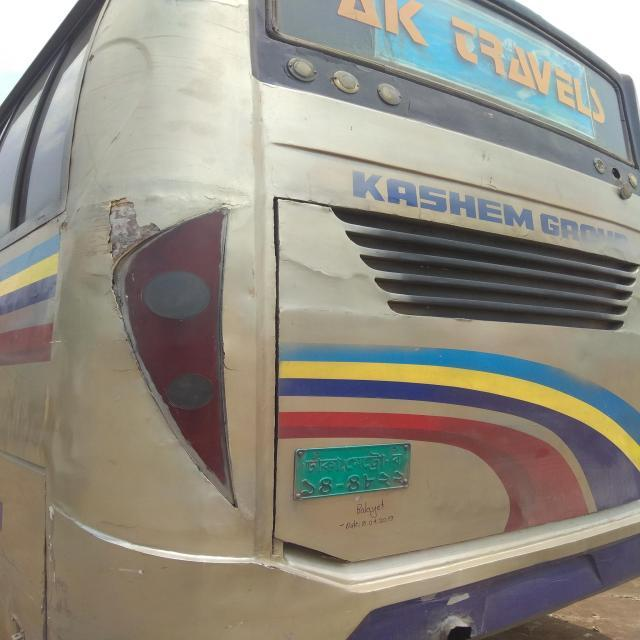numberplate: (292, 441, 411, 501)
